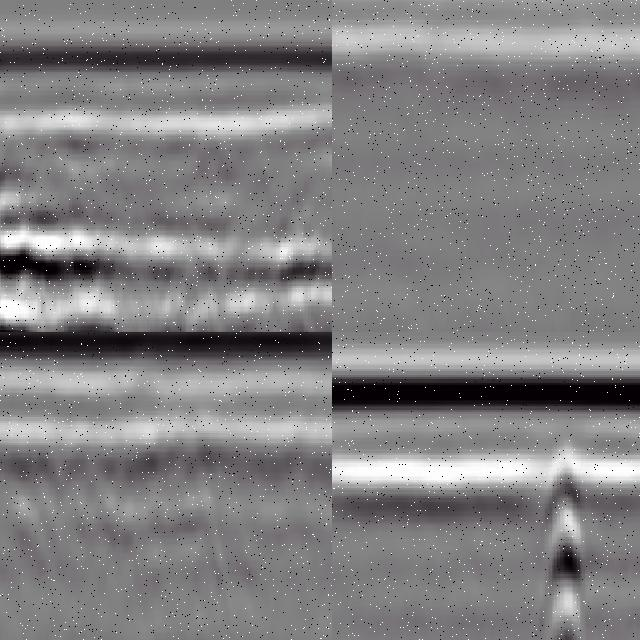crack: (549, 436, 579, 640)
loose: (1, 430, 220, 553), (1, 179, 124, 333)
